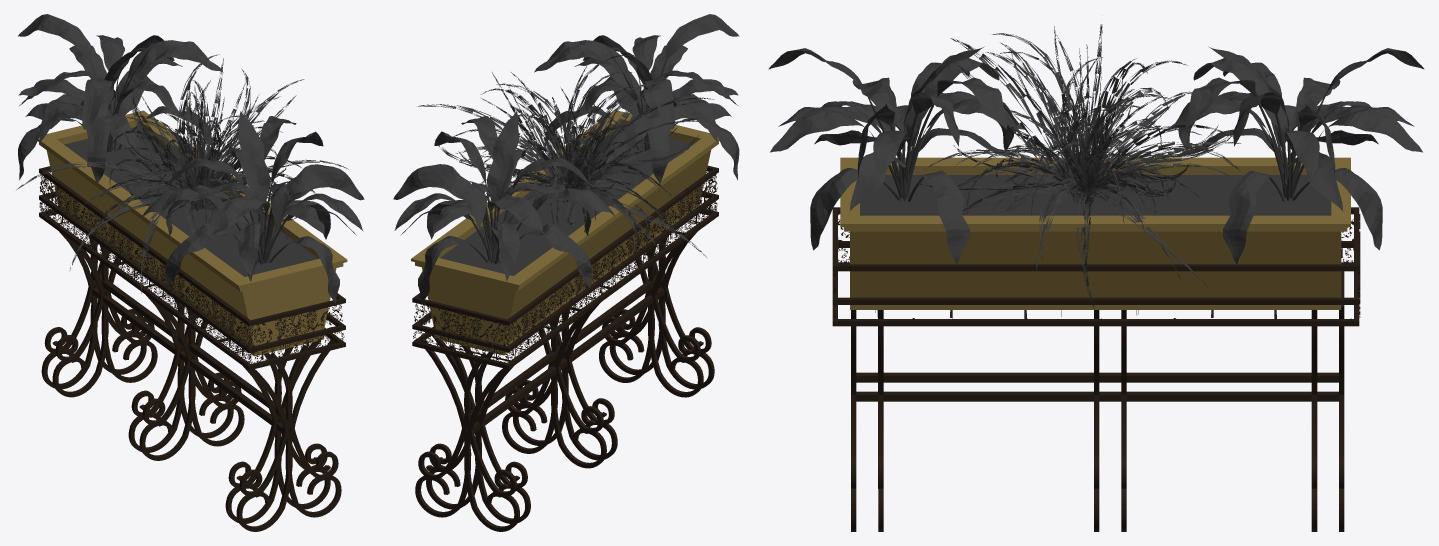
File: RackPlanta.FBX
The picture shows the model from 3 angles, left to right: view 1: azimuth 30°, elevation 25°; view 2: azimuth 150°, elevation 25°; view 3: azimuth 270°, elevation 25°; orthographic projection. The views are drawn at different scales.
Visible parts, largest first — view 1: VRayProxy2, Box311, VRayProxy1, VRayProxy0, VRayProxy_, VRayProxy3, Group13, VRayProxy5, VRayProxy4; view 2: VRayProxy2, Box311, VRayProxy0, VRayProxy_, VRayProxy1, VRayProxy3, Group13, VRayProxy5, VRayProxy4; view 3: Box311, VRayProxy_, VRayProxy2, VRayProxy0, VRayProxy1, Group13, VRayProxy4, VRayProxy5, VRayProxy3.
Boxes of the visible parts, x1,y1,x2,y2 form: VRayProxy2: (39,166,345,531); Box311: (38,110,347,356); VRayProxy1: (142,111,364,304); VRayProxy0: (18,14,223,183); VRayProxy_: (16,54,348,293); VRayProxy3: (39,172,344,364); Group13: (64,127,318,276); VRayProxy5: (92,287,283,432); VRayProxy4: (92,273,286,417); VRayProxy2: (412,165,718,531); Box311: (411,110,719,355); VRayProxy0: (393,111,615,303); VRayProxy_: (418,54,714,257); VRayProxy1: (534,14,739,183); VRayProxy3: (413,172,717,364); Group13: (440,127,693,275); VRayProxy5: (473,287,664,432); VRayProxy4: (470,273,664,417); Box311: (840,157,1350,309); VRayProxy_: (916,24,1241,308); VRayProxy2: (832,207,1359,531); VRayProxy0: (1167,46,1424,264); VRayProxy1: (768,46,1024,264); Group13: (860,175,1331,215); VRayProxy4: (856,372,1338,382); VRayProxy5: (856,391,1338,401); VRayProxy3: (833,214,1360,320).
Bounding box in the file's own units: 412 × 548 × 686.
